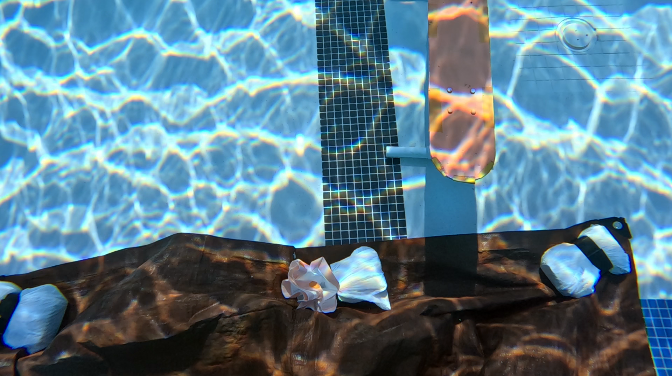pathmarker: (428, 0, 494, 180)
sandbag: (0, 214, 654, 373)
